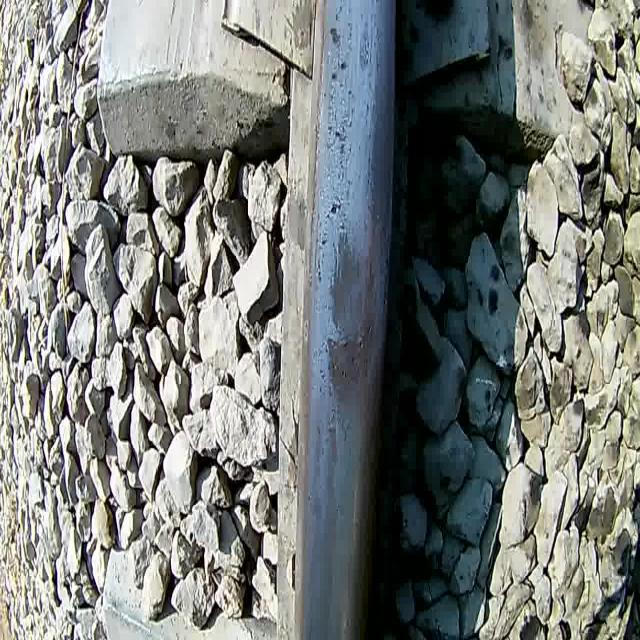Squats: (322, 222, 381, 419)
